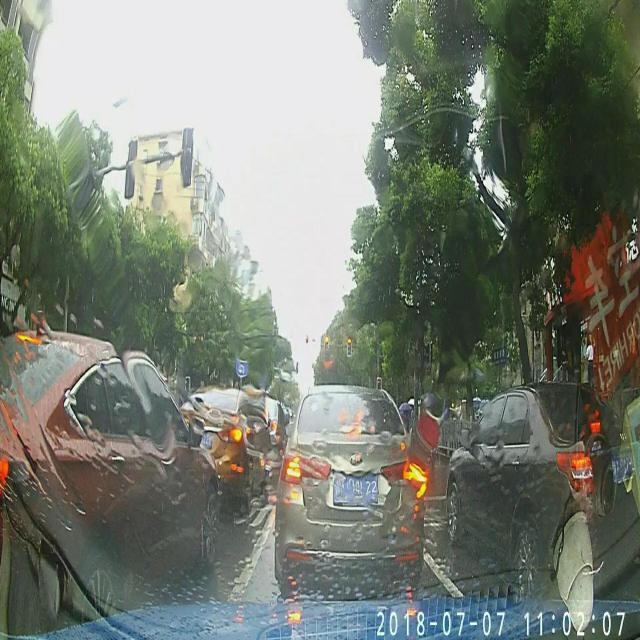car: (0, 330, 220, 618), (446, 383, 640, 601), (274, 383, 426, 597), (178, 380, 266, 512), (264, 397, 285, 449)
